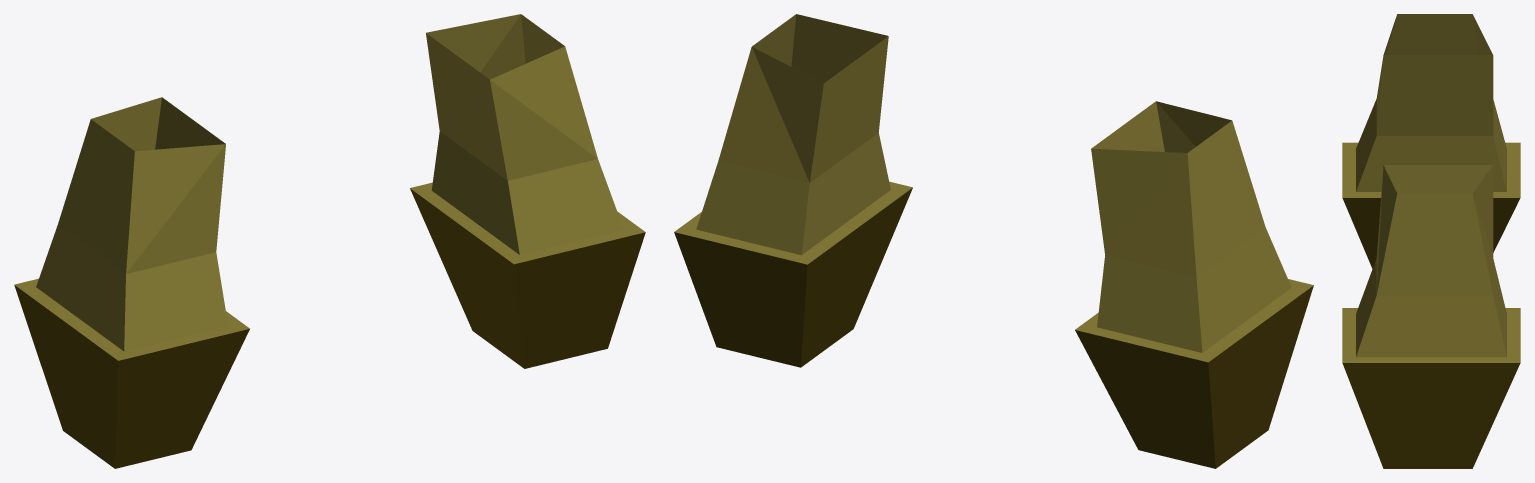
The model's file is npc_world_king_lathas_4.obj.
3 renders of one model, left to right at view 1: azimuth 30°, elevation 25°; view 2: azimuth 150°, elevation 25°; view 3: azimuth 270°, elevation 25°, orthographic. The views are drawn at different scales.
Size of the model in its own units: 0.5938 by 0.3281 by 0.2031.
